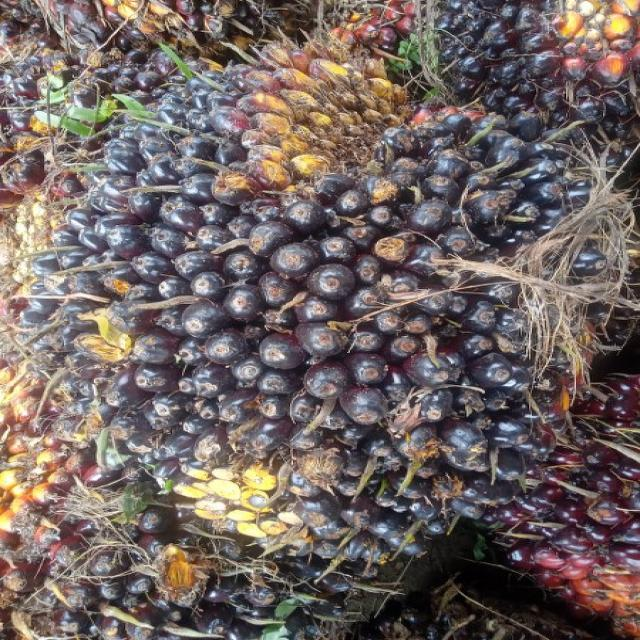fraksi 00: (51, 34, 613, 560)
